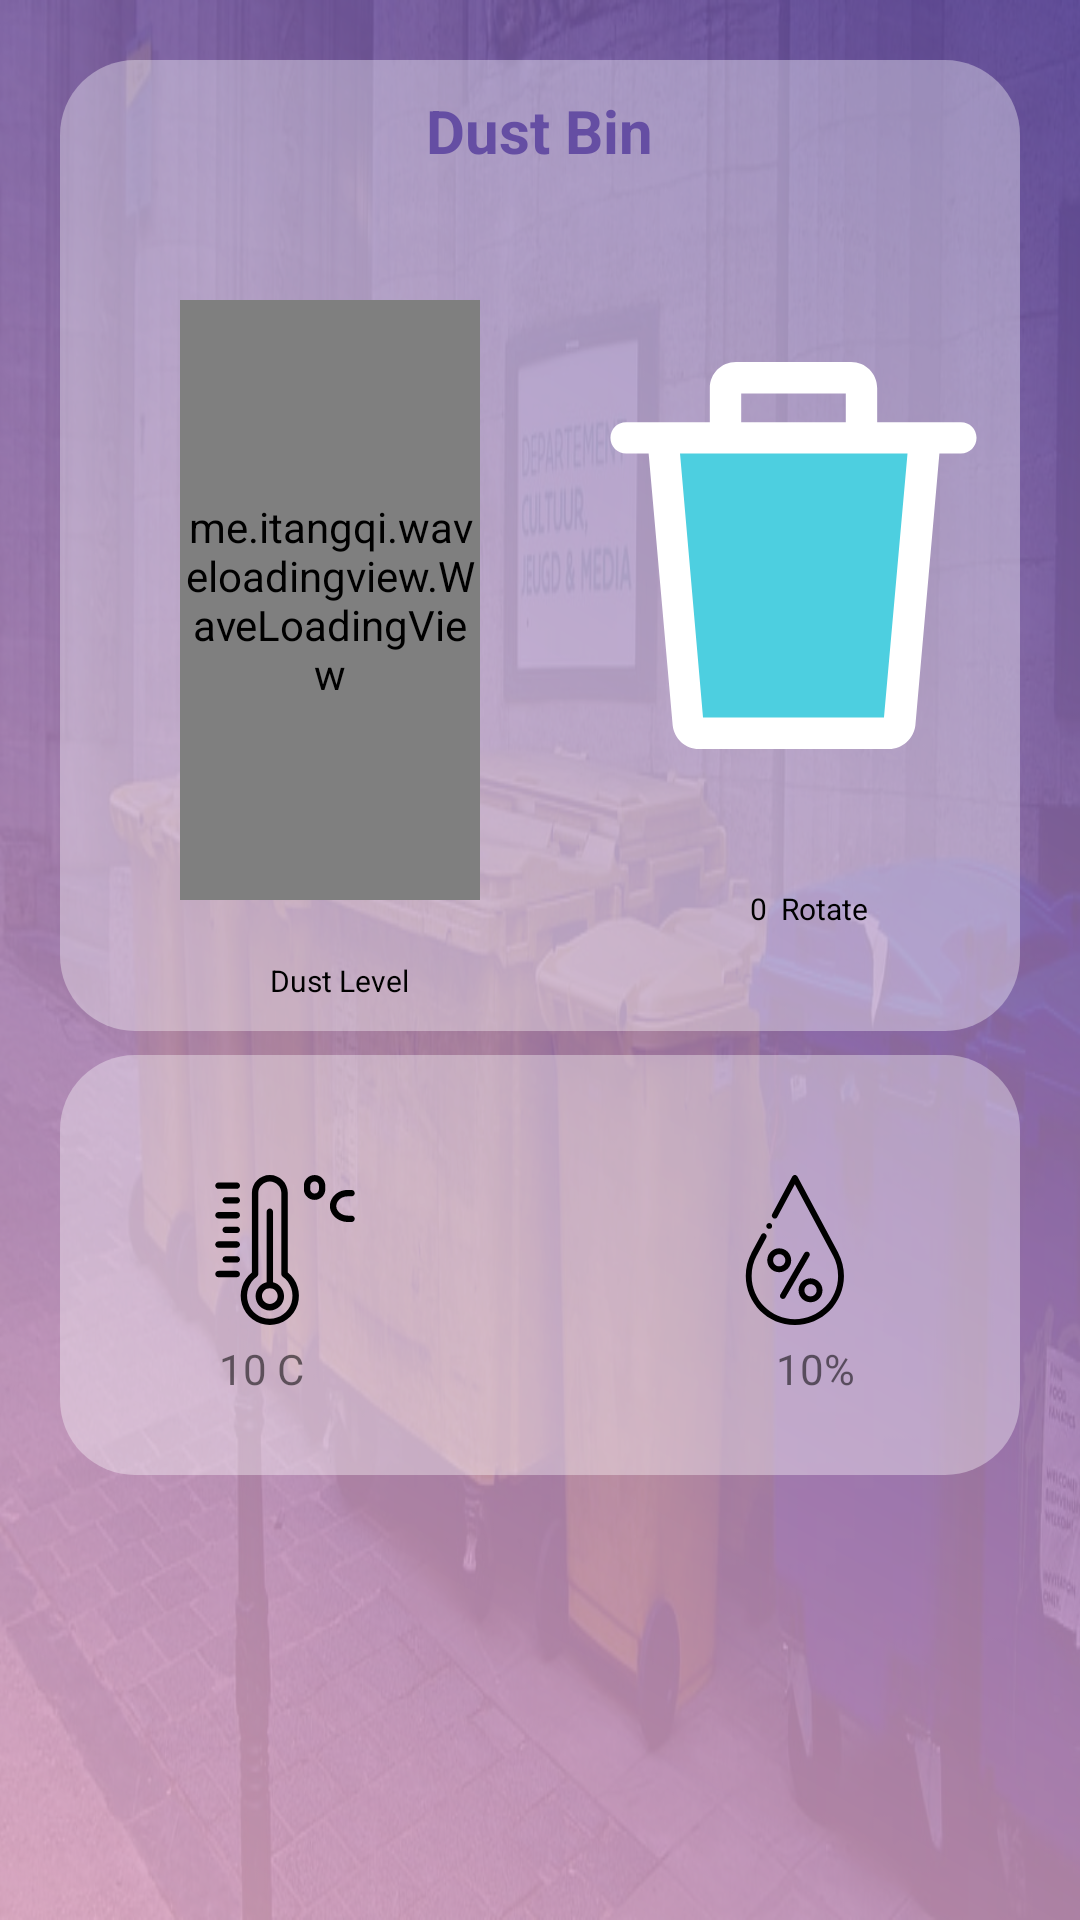

Where icons sit on this 1080*1920 app screen, as (x1, y1, x2, y2):
thermometer: (215, 1175, 355, 1325)
